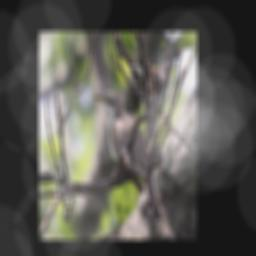Cuckoo: (92, 87, 162, 225)
